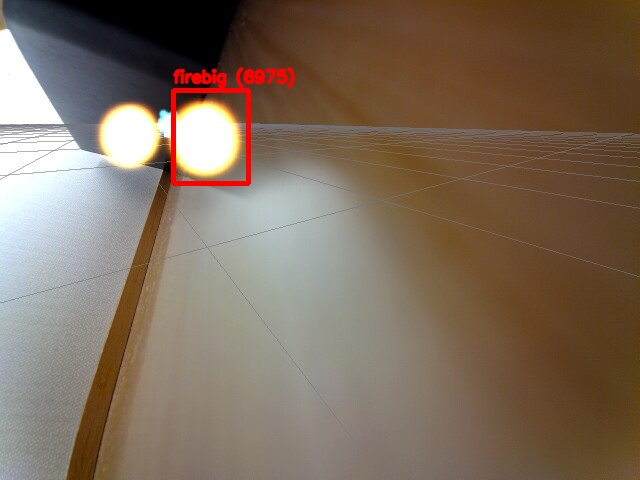firebig: (173, 90, 248, 183)
